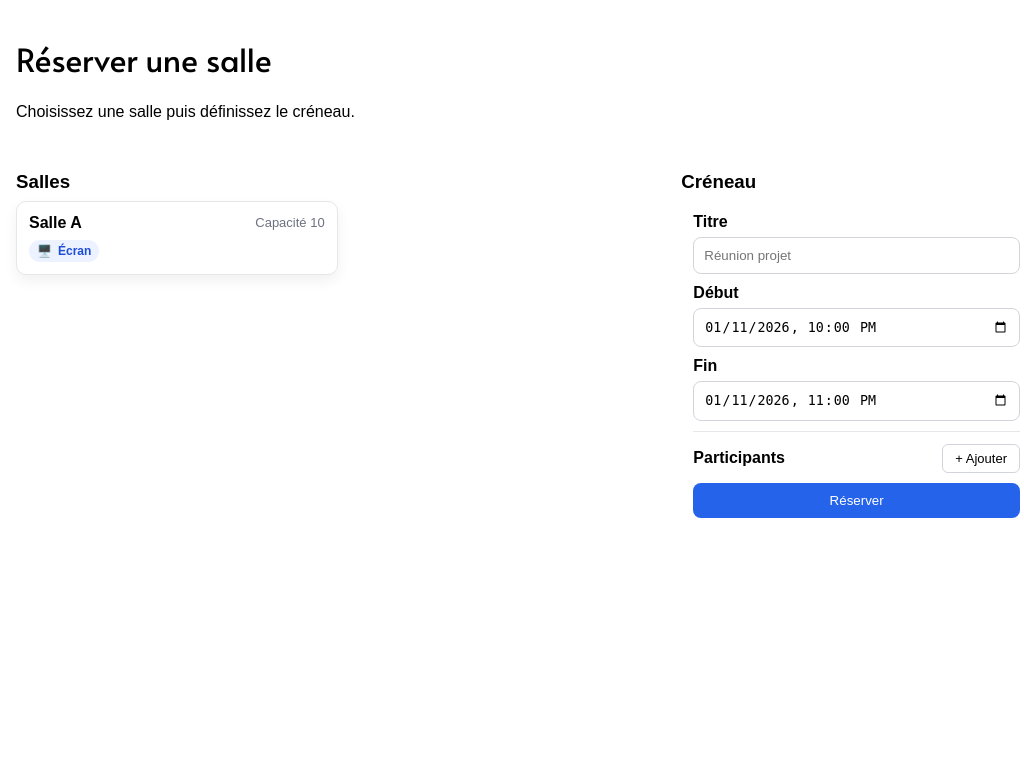
BookingRoom › selects a room when clicked
Click the element with test id "room-card-1": [177, 238] box [16,201,338,275]
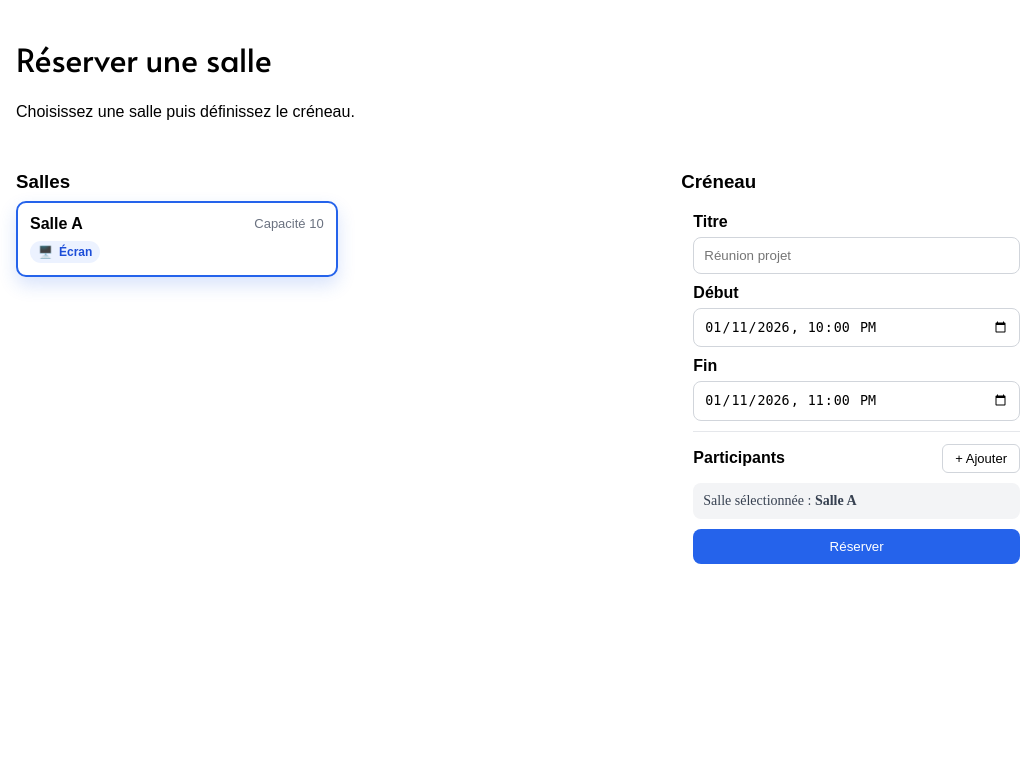
Check: the element with test id "selected-room-info" is shown, box [693,482,1020,518]
